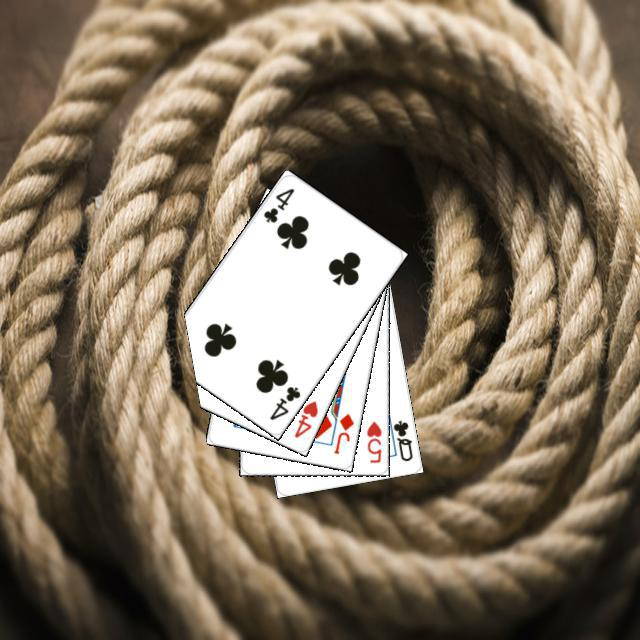4c: (258, 183, 296, 225), (264, 381, 302, 422)
4h: (289, 396, 320, 439)
5h: (362, 416, 383, 464)
Jd: (328, 408, 356, 456)
Qc: (384, 413, 414, 463)
